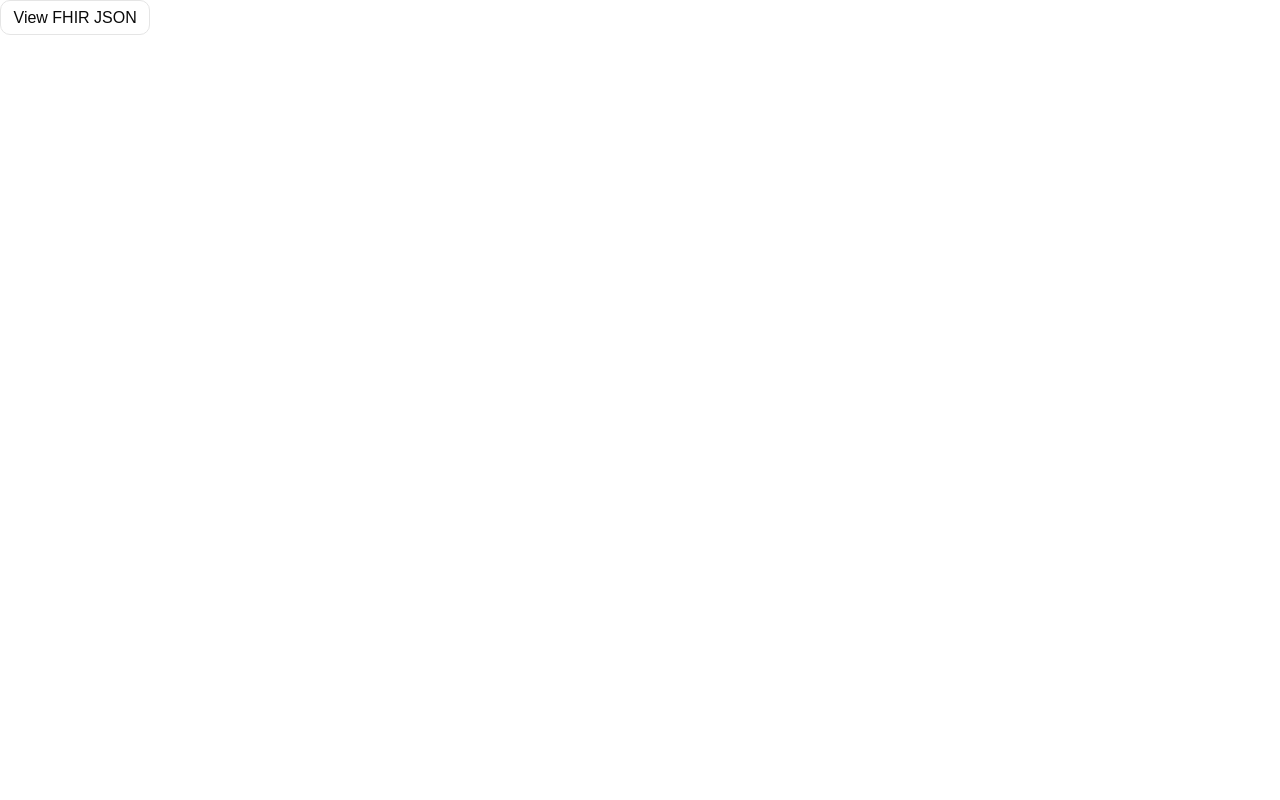
Test: SourceDialog › traps focus inside the open dialog
Later steps or results of the test are not shown.
Click the button "View FHIR JSON". click: {"x": 75, "y": 18}
box: left=0, top=0, right=150, bottom=35
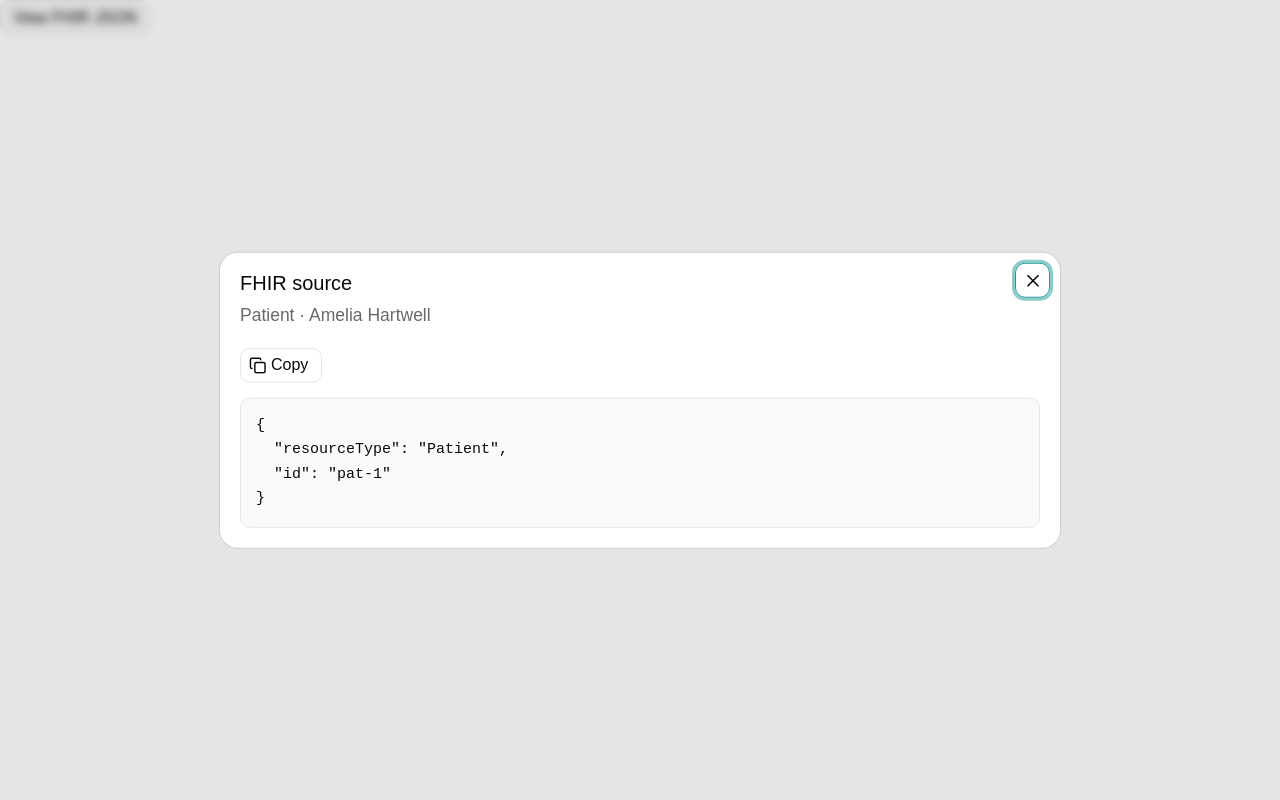
Now the text "{ \"resourceType\": \"Patient\", \"id\": \"pat-1\" }" is shown, box left=256, top=417, right=508, bottom=507
